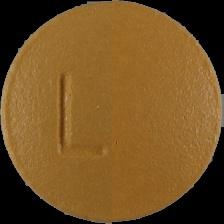0179-0169: (0, 0, 224, 224)
